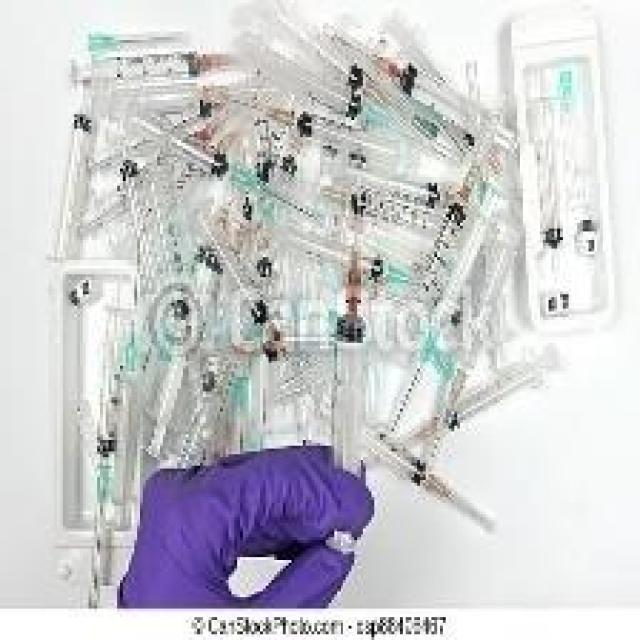syringe: (54, 36, 618, 582)
